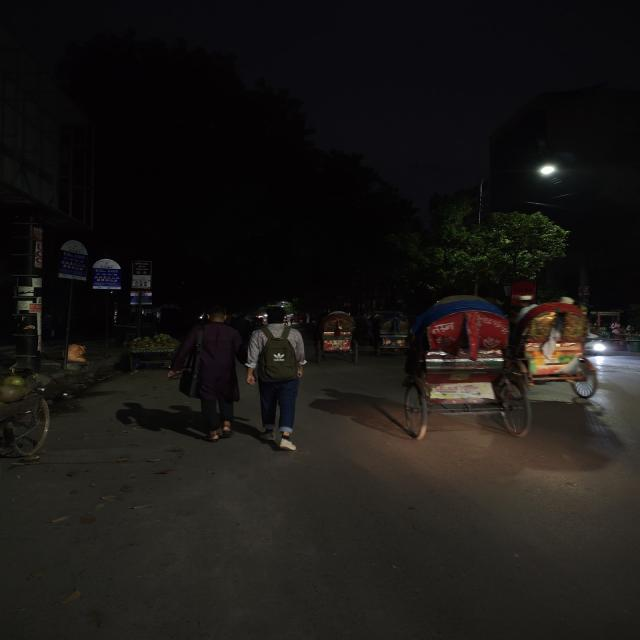pedestrian: (168, 309, 250, 440), (245, 307, 311, 451)
rickshaw: (399, 286, 533, 444), (516, 293, 606, 402), (0, 372, 58, 476), (312, 310, 363, 362), (117, 333, 173, 375), (367, 308, 411, 356)
